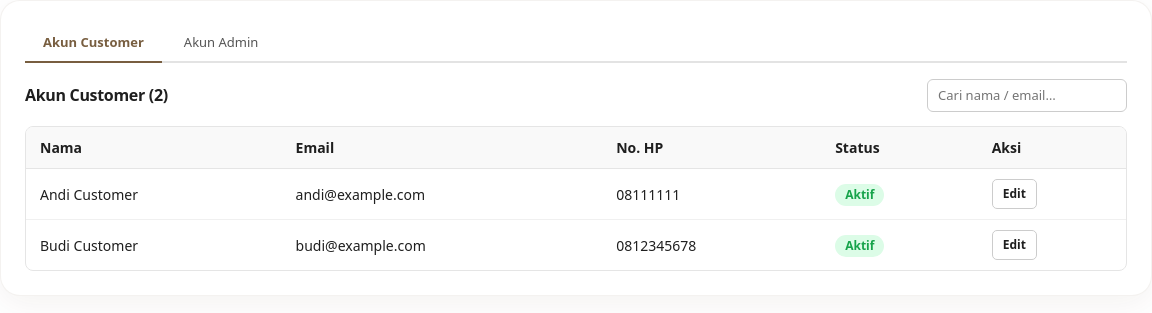
Test: AccountsSection — split customer/admin lists › hides create buttons for non-owner roles
The width and height of the screenshot is (1152, 313).
Expected: the text "Andi Customer" is shown, [26,168,282,220]
Click the tab "Akun Admin". click: {"x": 221, "y": 44}
box: [166,25,276,62]
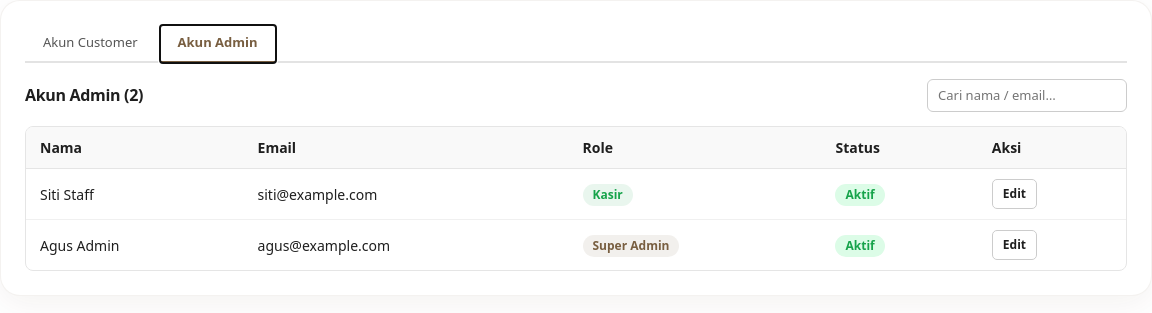
Result: the text "Siti Staff" is shown at [26,168,244,220]
